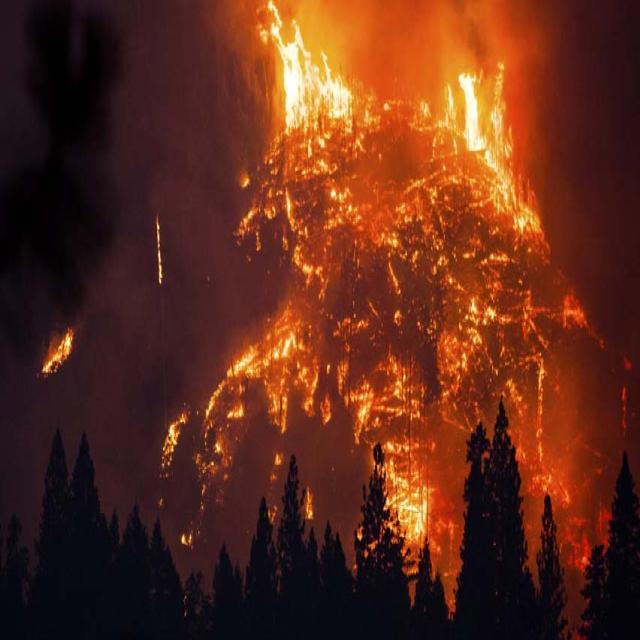Fire: (235, 0, 550, 227)
Smoke: (0, 32, 627, 548)
